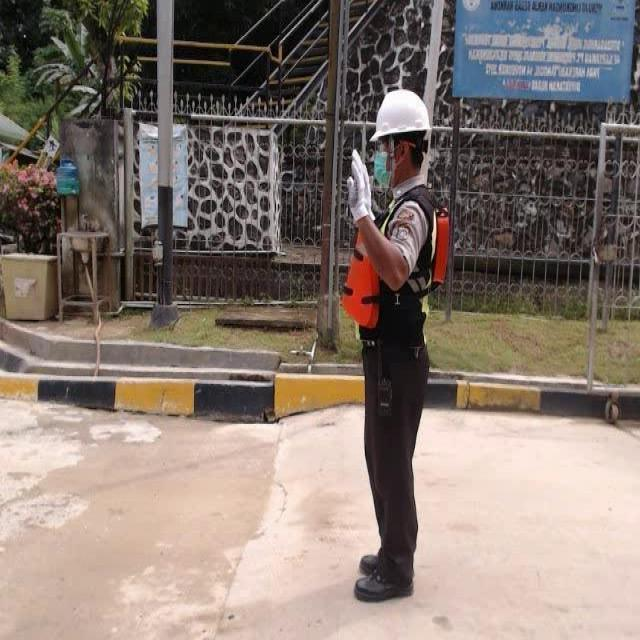gloves: (340, 149, 380, 225)
helmet: (366, 92, 435, 150)
